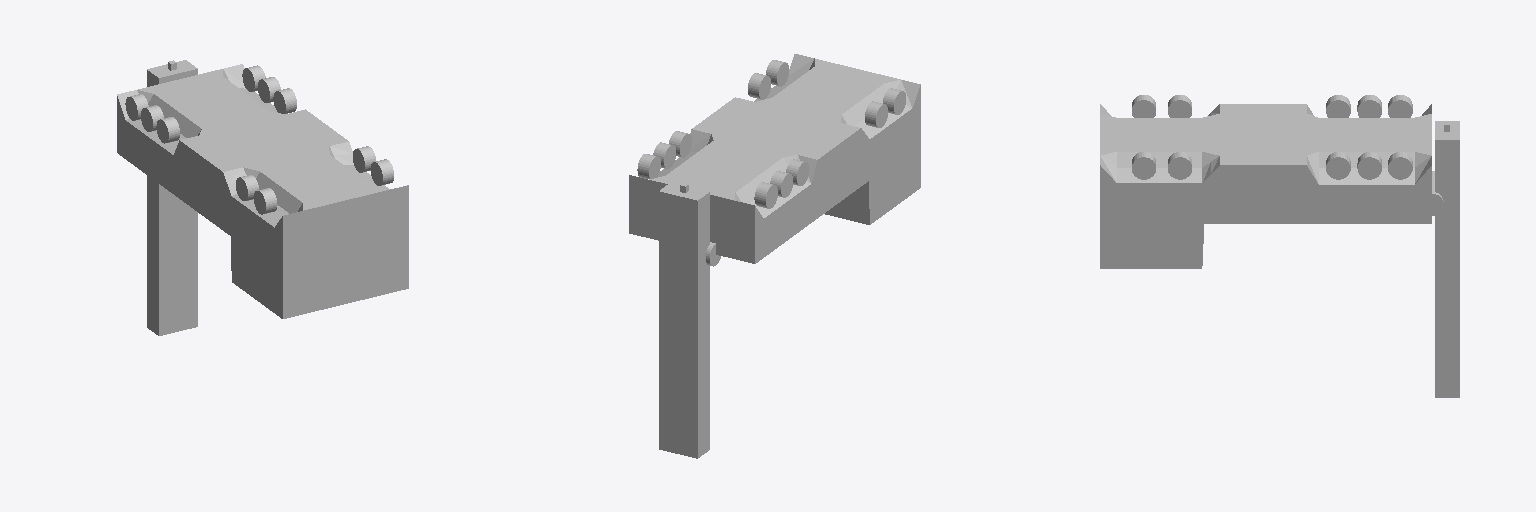
Rendered from drillingrig.obj.
3 renders of one model, left to right at view 1: azimuth 30°, elevation 25°; view 2: azimuth 150°, elevation 25°; view 3: azimuth 270°, elevation 25°, orthographic.
Size of the model in its own units: 2.59 by 5.11 by 6.28.